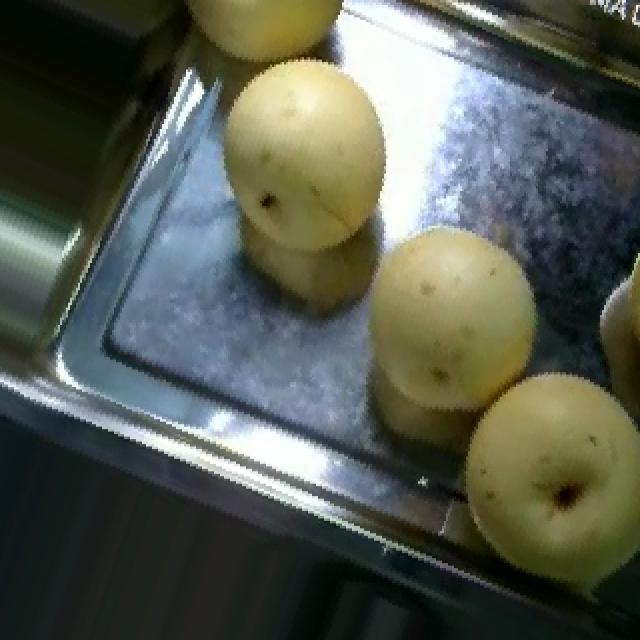Fruit: (180, 2, 430, 332), (322, 191, 568, 479), (422, 340, 640, 608)
